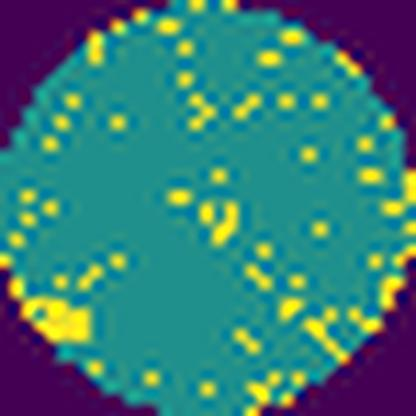Edge-Loc: (7, 276, 95, 344)
